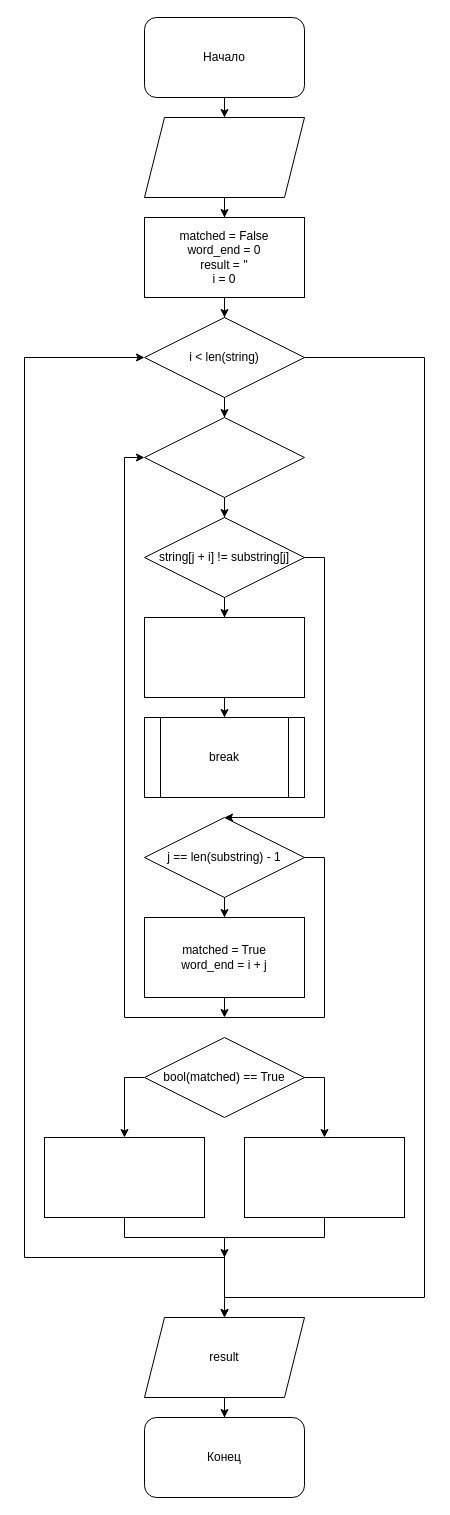
The diagram is 450 pixels wide and 1515 high, and some of its shapes have lost their labels. Here are the shapes that lost their labels. From the top down, the centre of each, then its label:
At (224,157): "string substring new_substring".
At (224,457): "j in range(len(substring))".
At (224,657): "matched = False".
At (124,1177): "i = word_end + 1 result += new_substring".
At (324,1177): "result += string[i] i += 1".
